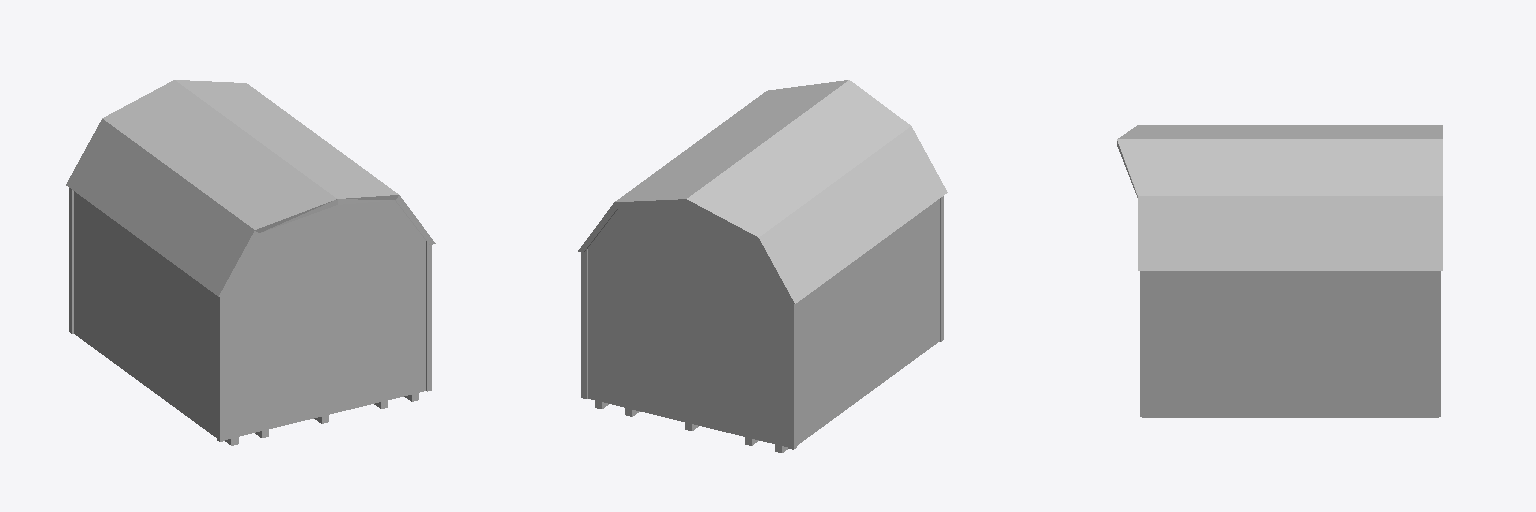
The model's file is High Wall Barns_10x12.obj.
3 views of the same model, side by side, from view 1: azimuth 30°, elevation 25°; view 2: azimuth 150°, elevation 25°; view 3: azimuth 270°, elevation 25° (orthographic).
Parts seen in each view (by area): view 1: High Wall Barns_10x12.obj; view 2: High Wall Barns_10x12.obj; view 3: High Wall Barns_10x12.obj.
Part boxes in pixels (x1,y1,x2,y2): High Wall Barns_10x12.obj: (66, 80, 435, 445); High Wall Barns_10x12.obj: (578, 80, 947, 452); High Wall Barns_10x12.obj: (1117, 125, 1442, 417).
Size of the model in its own units: 3.09 by 3.17 by 4.01.